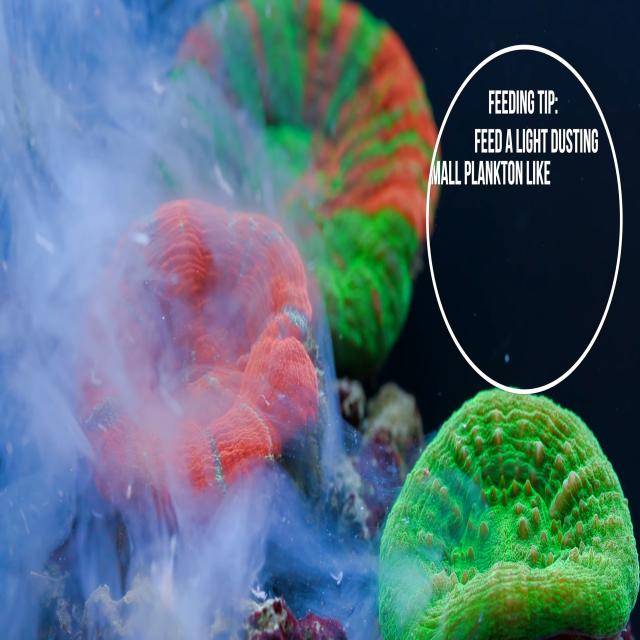Scolymia-Vitiensis -Poisonous-: (160, 6, 433, 364), (379, 391, 634, 640), (84, 206, 313, 481)
